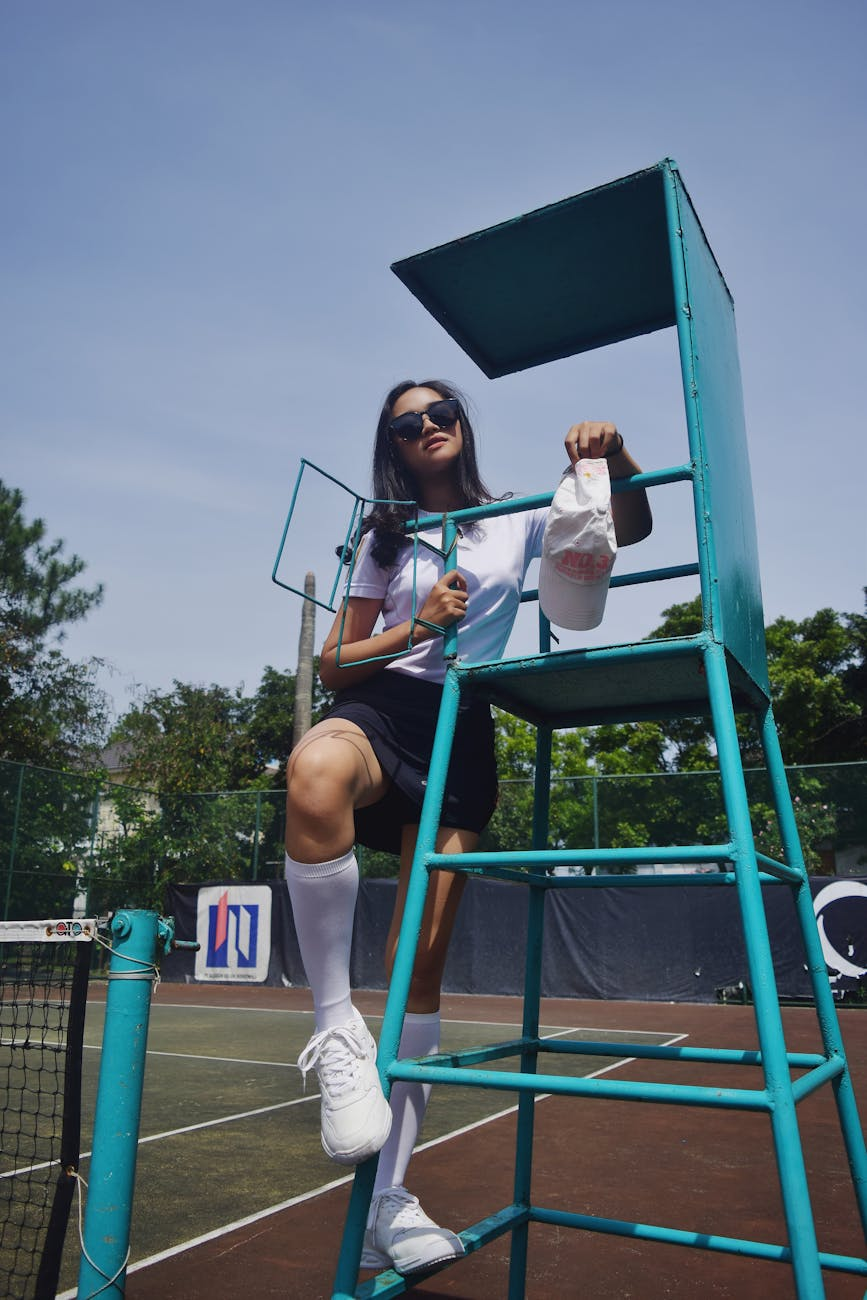shorts: (308, 662, 504, 824)
